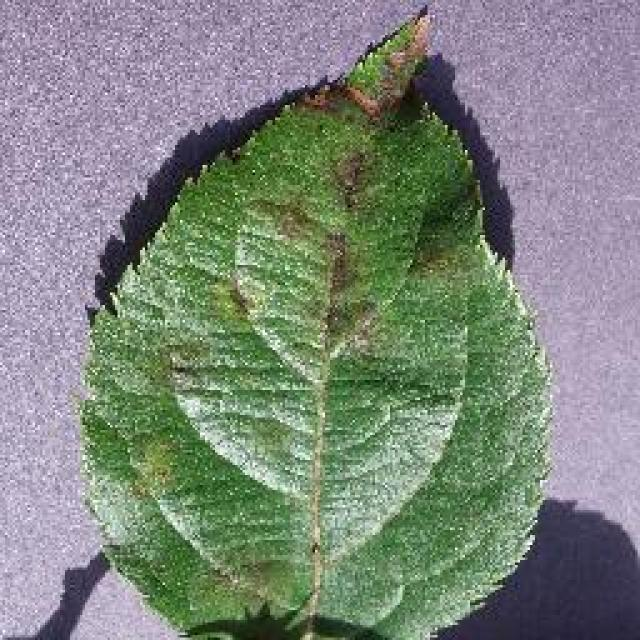apple scab disease: (75, 2, 555, 638)
